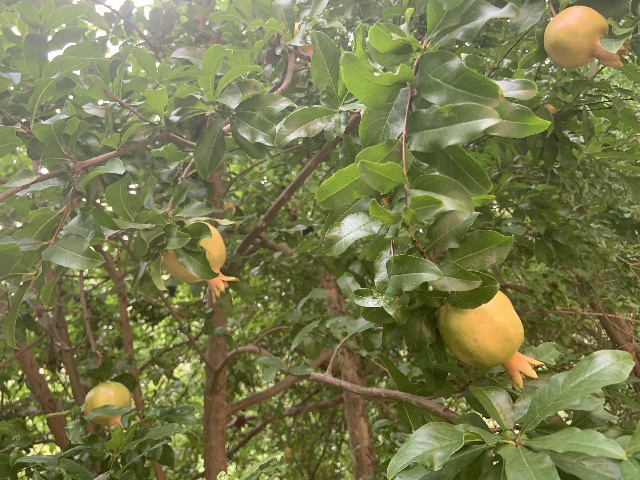mid-growth: (438, 290, 546, 391), (161, 221, 240, 300), (543, 4, 629, 70), (83, 381, 136, 434)
